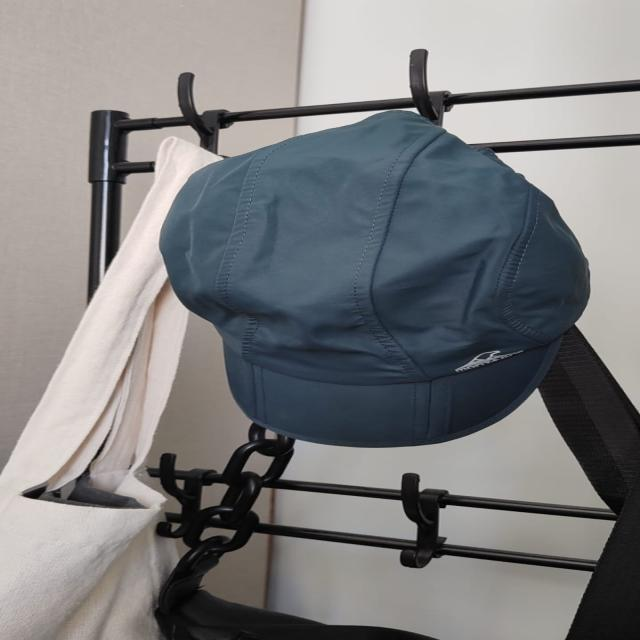Gorra: (140, 103, 607, 456)
